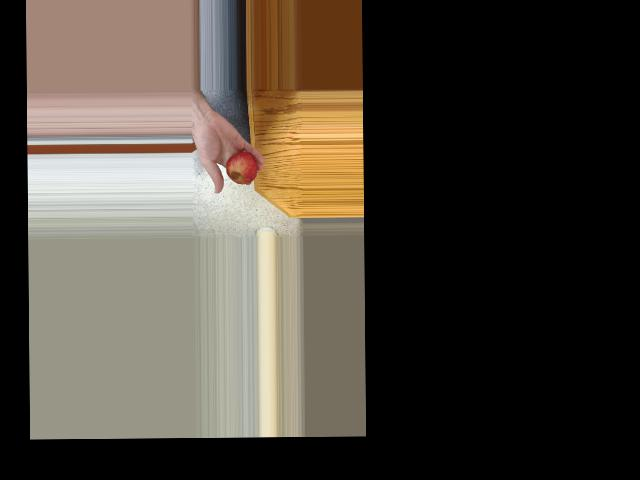apple: (222, 147, 257, 185)
